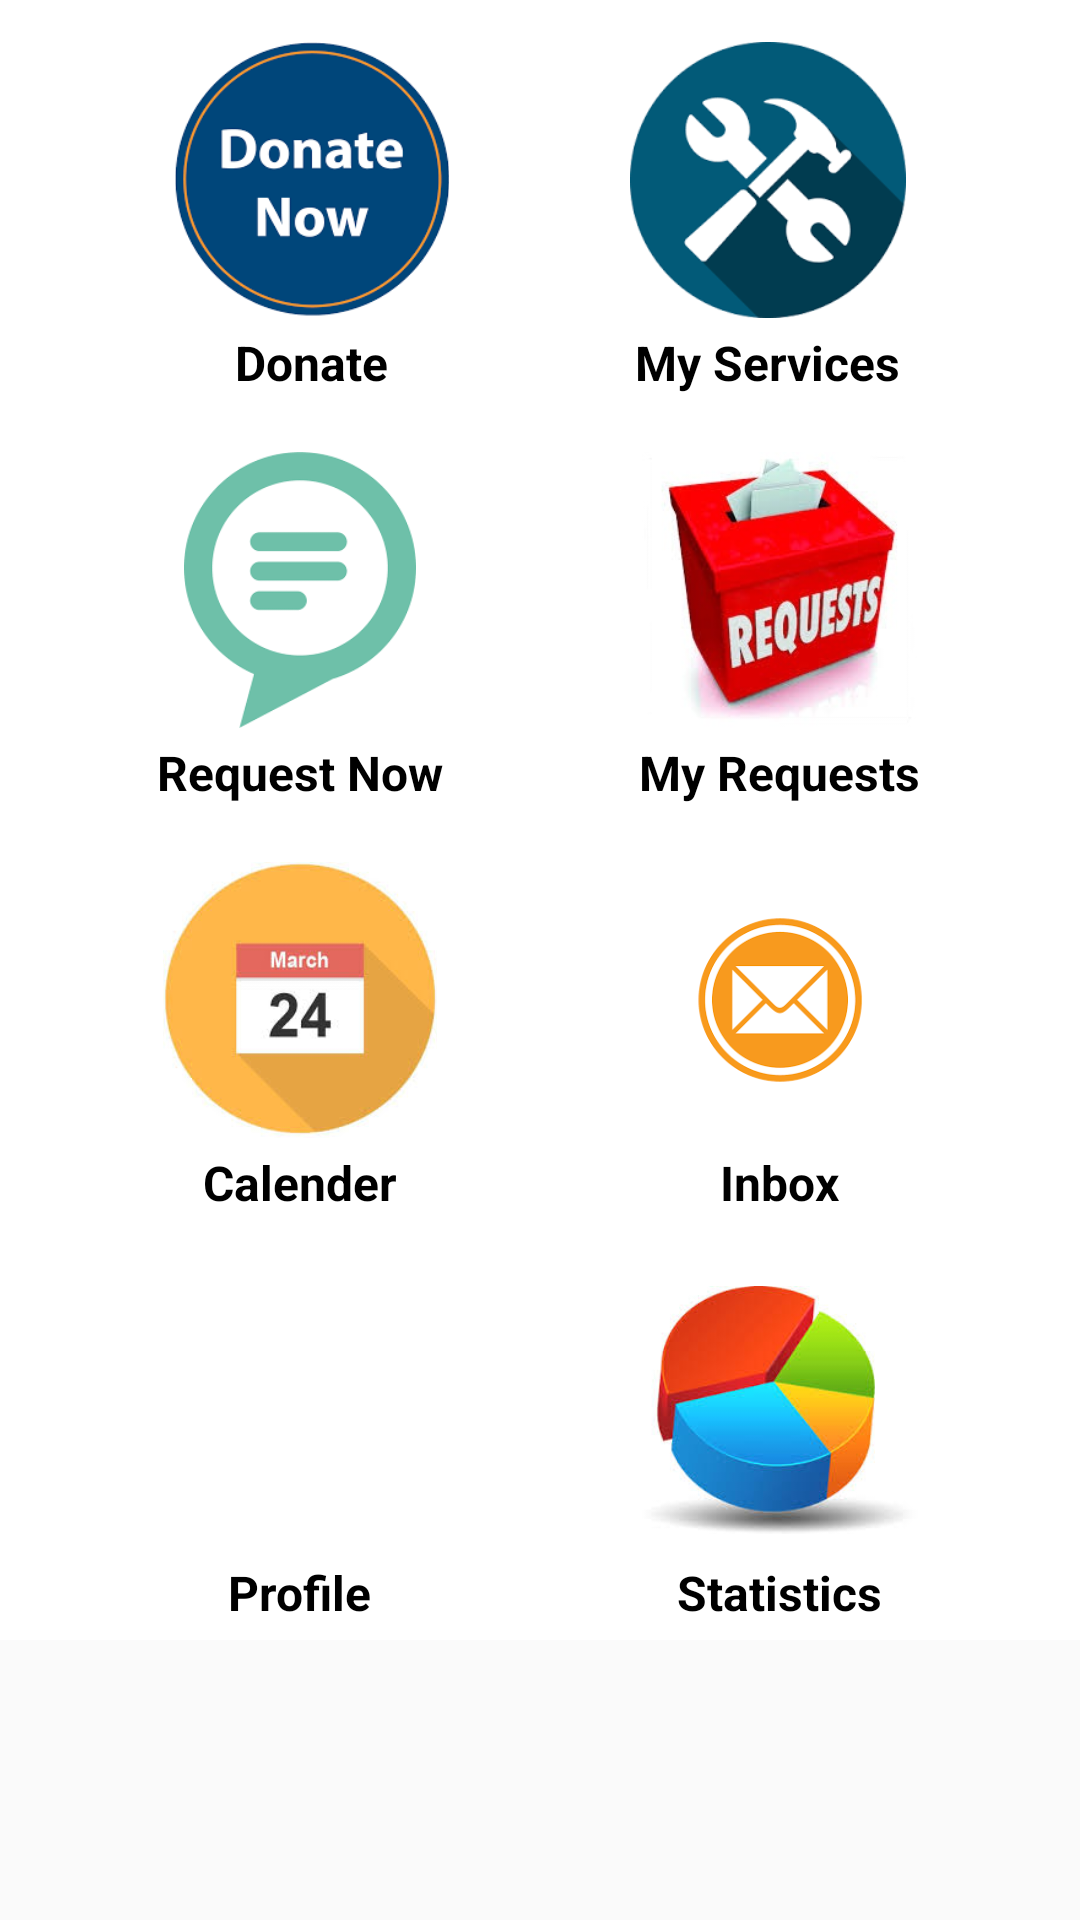

Named icons in this screenshot (1080*1920) and their centers, [x,y]:
charts: [774,1408]
